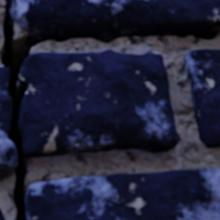brick: (26, 168, 219, 219), (8, 0, 219, 35), (183, 49, 219, 147), (0, 208, 4, 219)
broken_brick: (18, 50, 177, 158), (0, 67, 17, 170)
crack: (0, 0, 218, 219)
